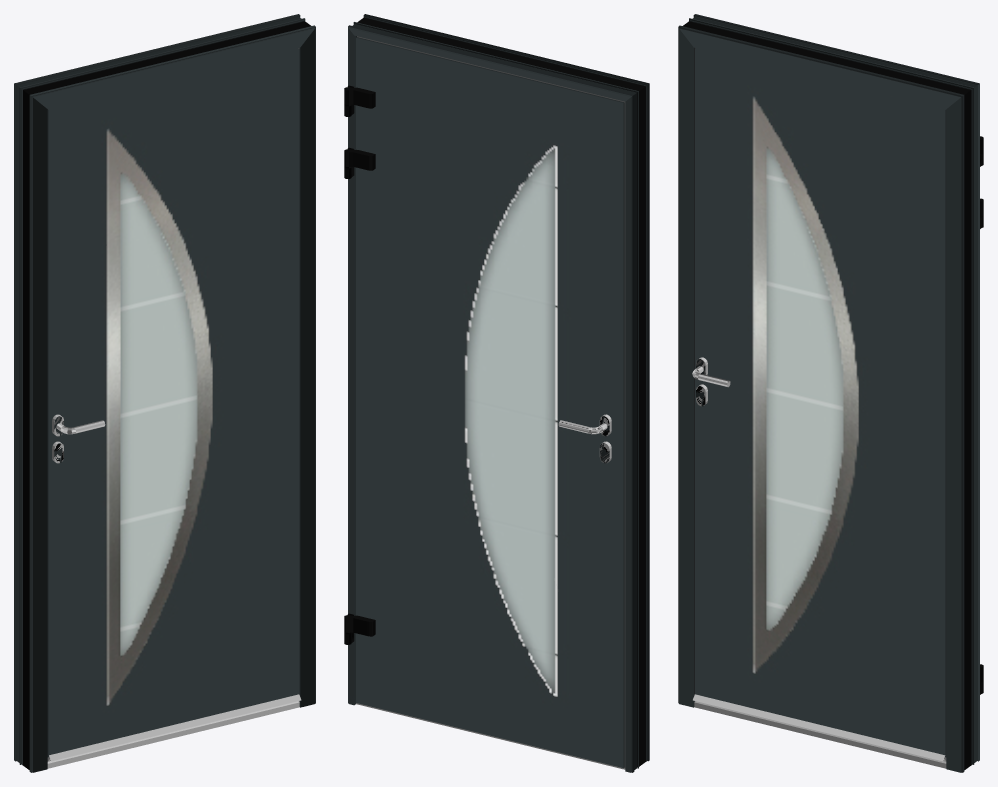
3 views of the same model, side by side, from view 1: azimuth 30°, elevation 25°; view 2: azimuth 150°, elevation 25°; view 3: azimuth 330°, elevation 25° (orthographic).
Parts seen in each view (by area): view 1: ouvrant, 105; view 2: ouvrant, 105; view 3: ouvrant, 105.
Part boxes in pixels (x1,y1,x2,y2): ouvrant: (47,48,301,761); 105: (14,14,315,772); ouvrant: (344,36,625,768); 105: (344,14,649,772); ouvrant: (693,48,983,761); 105: (678,14,983,772).
Size of the model in its own units: 96 by 218 by 24.64.
1 material, 1 textured.
